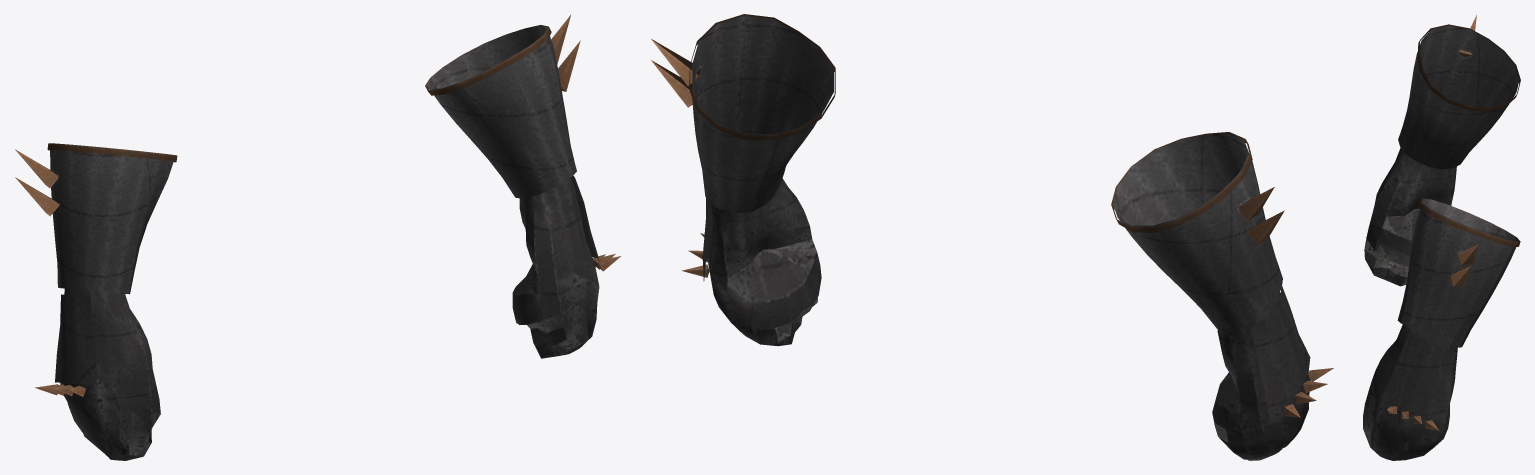
Rendered from Luvas_de_Placas_nivel75.glb.
3 views of the same model, side by side, from view 1: azimuth 30°, elevation 25°; view 2: azimuth 150°, elevation 25°; view 3: azimuth 270°, elevation 25° (orthographic). The views are drawn at different scales.
Visible parts, largest first — view 1: luvas_de_placas_nivel75; view 2: luvas_de_placas_nivel75; view 3: luvas_de_placas_nivel75.
Part boxes in pixels (x1,y1,x2,y2): luvas_de_placas_nivel75: (15, 14, 620, 460); luvas_de_placas_nivel75: (651, 14, 1333, 460); luvas_de_placas_nivel75: (1363, 15, 1520, 460).
Bounding box in the file's own units: 0.7257 × 0.3723 × 0.2088.
Materials: 1 (1 with a texture image).
